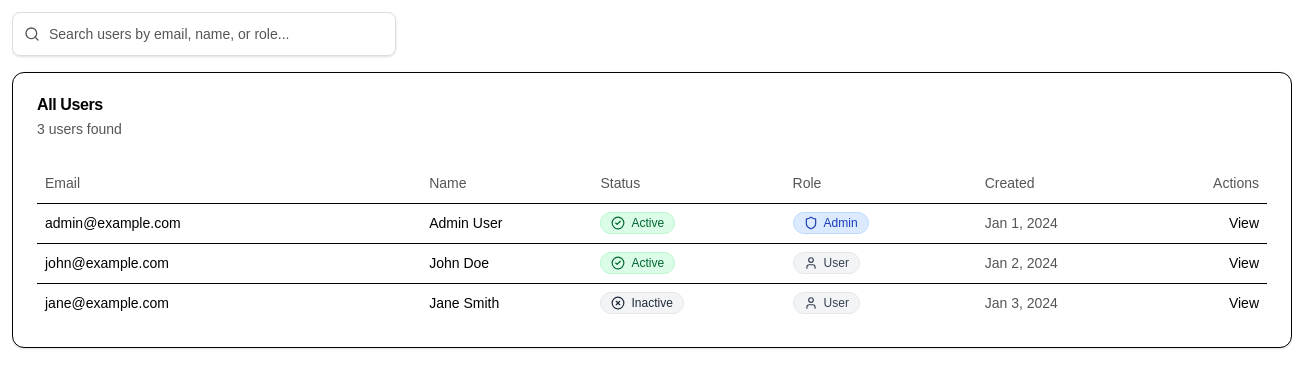
it: UserListTableWithSearch › filters users by role
# Search for 'moderator' role
Type "moderator" into the field with placeholder "Search users by email, name, or role..." at point(204, 34), box [12, 12, 396, 56]
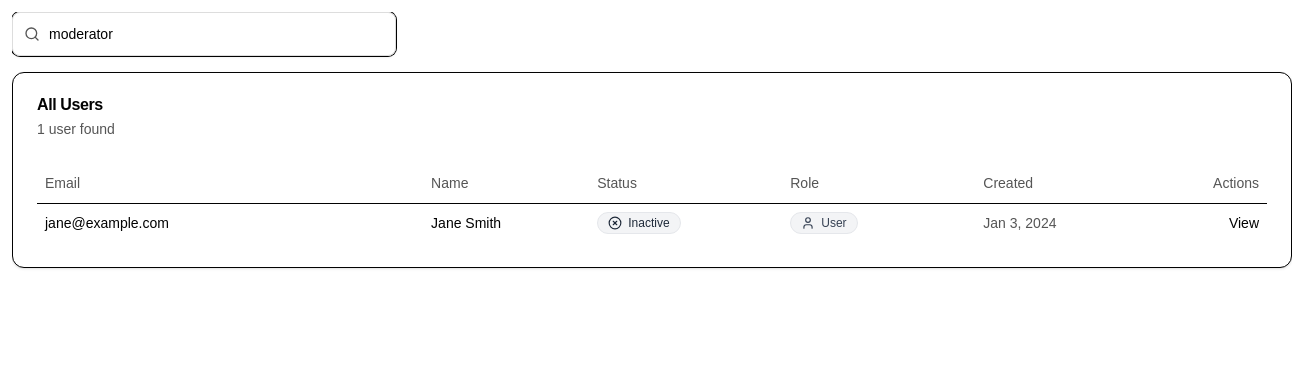
Result: the text "1 user found" is shown at [37, 121, 115, 137]
Result: the text "admin@example.com" is gone
Result: the text "john@example.com" is gone
